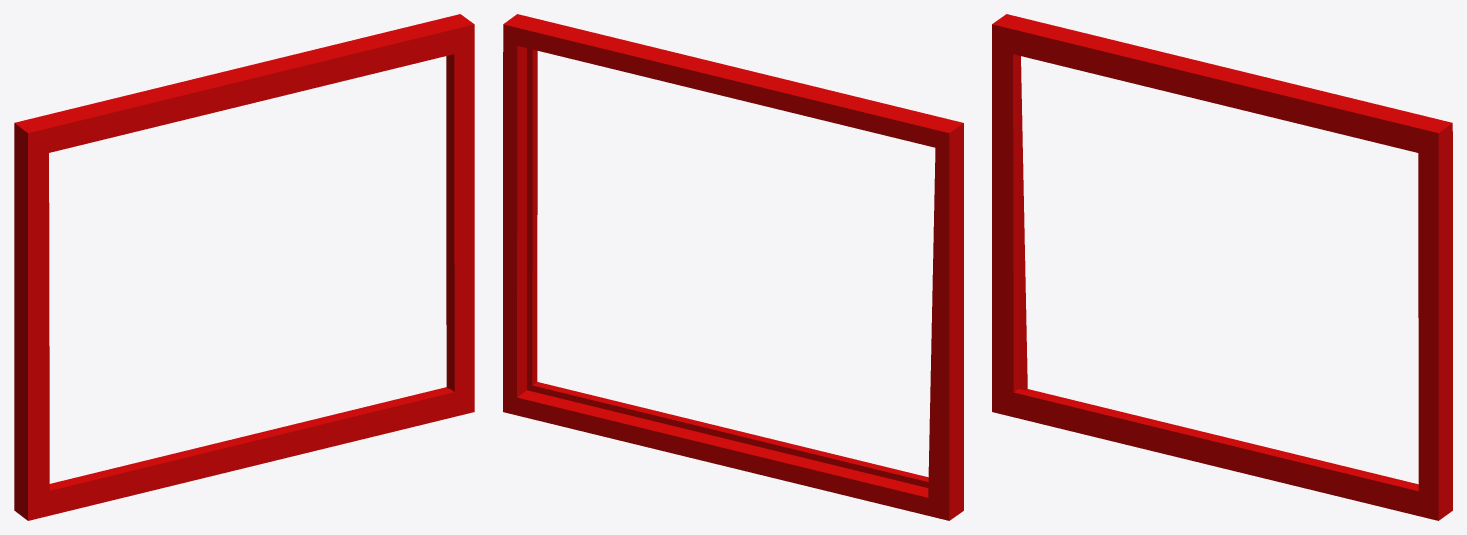
File: Restaurant_01_Wall_Orn_04.fbx
3 views of the same model, side by side, from view 1: azimuth 30°, elevation 25°; view 2: azimuth 150°, elevation 25°; view 3: azimuth 330°, elevation 25° (orthographic).
Visible parts, largest first — view 1: Restaurant_01_Wall_Orn_04; view 2: Restaurant_01_Wall_Orn_04; view 3: Restaurant_01_Wall_Orn_04.
Part boxes in pixels (x1=…): Restaurant_01_Wall_Orn_04: x1=14, y1=14, x2=474, y2=520; Restaurant_01_Wall_Orn_04: x1=503, y1=14, x2=963, y2=520; Restaurant_01_Wall_Orn_04: x1=992, y1=14, x2=1452, y2=520.
Size of the model in its own units: 199 by 165 by 10.93.
